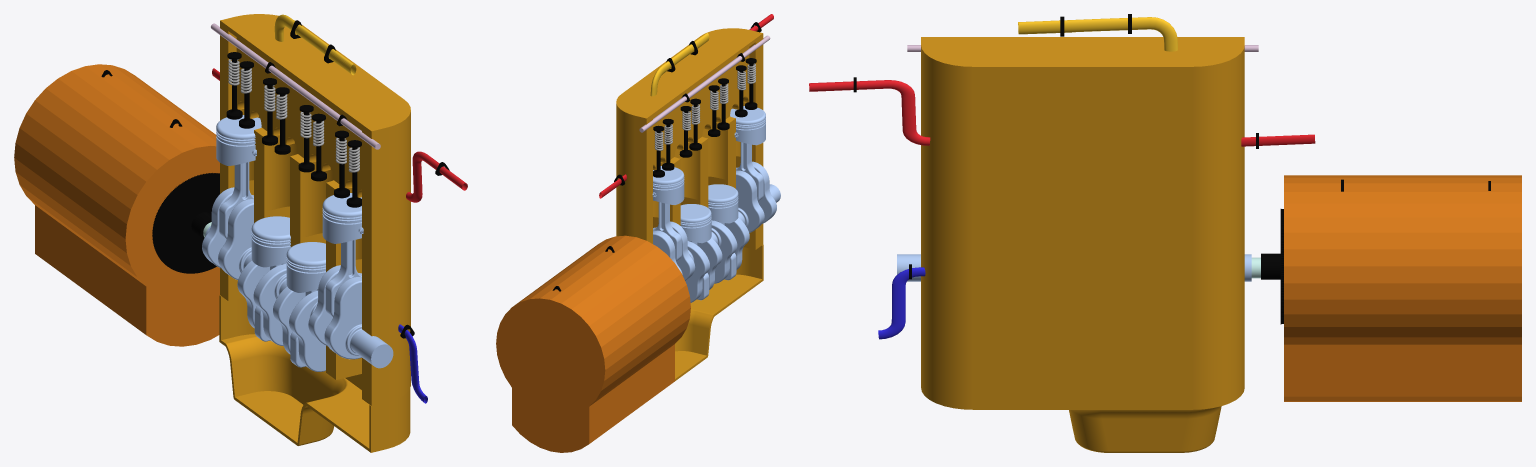
The model's file is cylinder_engine.glb.
3 views of the same model, side by side, from view 1: azimuth 30°, elevation 25°; view 2: azimuth 150°, elevation 25°; view 3: azimuth 270°, elevation 25° (orthographic). The views are drawn at different scales.
Parts seen in each view (by area): view 1: Electric Alternator, Body1.015, Body1.039, Body1.008, Body2, Body1.010, Body1.011, Body1.009, Body1.012, Diesel Pipe, Inlet Air/BiogasPipe, Body1.001 (+10 smaller); view 2: Electric Alternator, Body1.015, Body1.008, Body1.039, Body1.011, Body1.010, Body1.012, Body1.009, Diesel Pipe, Body1.001, Body1, Inlet Air/BiogasPipe (+4 smaller); view 3: Body1.015, Electric Alternator, Body1.039, Inlet Air/BiogasPipe, Inlet water pipe, Exit water pipe, Body2, Exhaust Gas Pipe.
Part boxes in pixels (<box>): Electric Alternator: <box>14,64,219,346</box>; Body1.015: <box>220,14,410,405</box>; Body1.039: <box>219,295,410,452</box>; Body1.008: <box>202,187,393,371</box>; Body2: <box>152,173,219,273</box>; Body1.010: <box>251,216,290,267</box>; Body1.011: <box>286,242,325,292</box>; Body1.009: <box>216,115,261,165</box>; Body1.012: <box>322,193,361,243</box>; Diesel Pipe: <box>211,23,380,149</box>; Inlet Air/BiogasPipe: <box>274,14,356,75</box>; Body1.001: <box>219,162,253,238</box>; Electric Alternator: <box>496,235,690,452</box>; Body1.015: <box>616,28,763,249</box>; Body1.008: <box>653,161,780,302</box>; Body1.039: <box>675,244,763,380</box>; Body1.011: <box>708,184,738,223</box>; Body1.010: <box>680,204,711,243</box>; Body1.012: <box>730,106,765,145</box>; Body1.009: <box>653,166,684,204</box>; Diesel Pipe: <box>639,35,770,132</box>; Body1.001: <box>653,202,681,261</box>; Body1: <box>736,142,763,201</box>; Inlet Air/BiogasPipe: <box>650,33,709,96</box>; Body1.015: <box>921,37,1244,360</box>; Electric Alternator: <box>1284,175,1521,401</box>; Body1.039: <box>921,339,1244,452</box>; Inlet Air/BiogasPipe: <box>1018,17,1177,51</box>; Inlet water pipe: <box>809,80,930,145</box>; Exit water pipe: <box>878,267,925,339</box>; Body2: <box>1261,209,1283,324</box>; Exhaust Gas Pipe: <box>1241,134,1315,146</box>.
Bounding box in the file's own units: 25.42 × 68.64 × 104.
